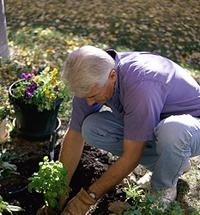person: (37, 45, 200, 215)
